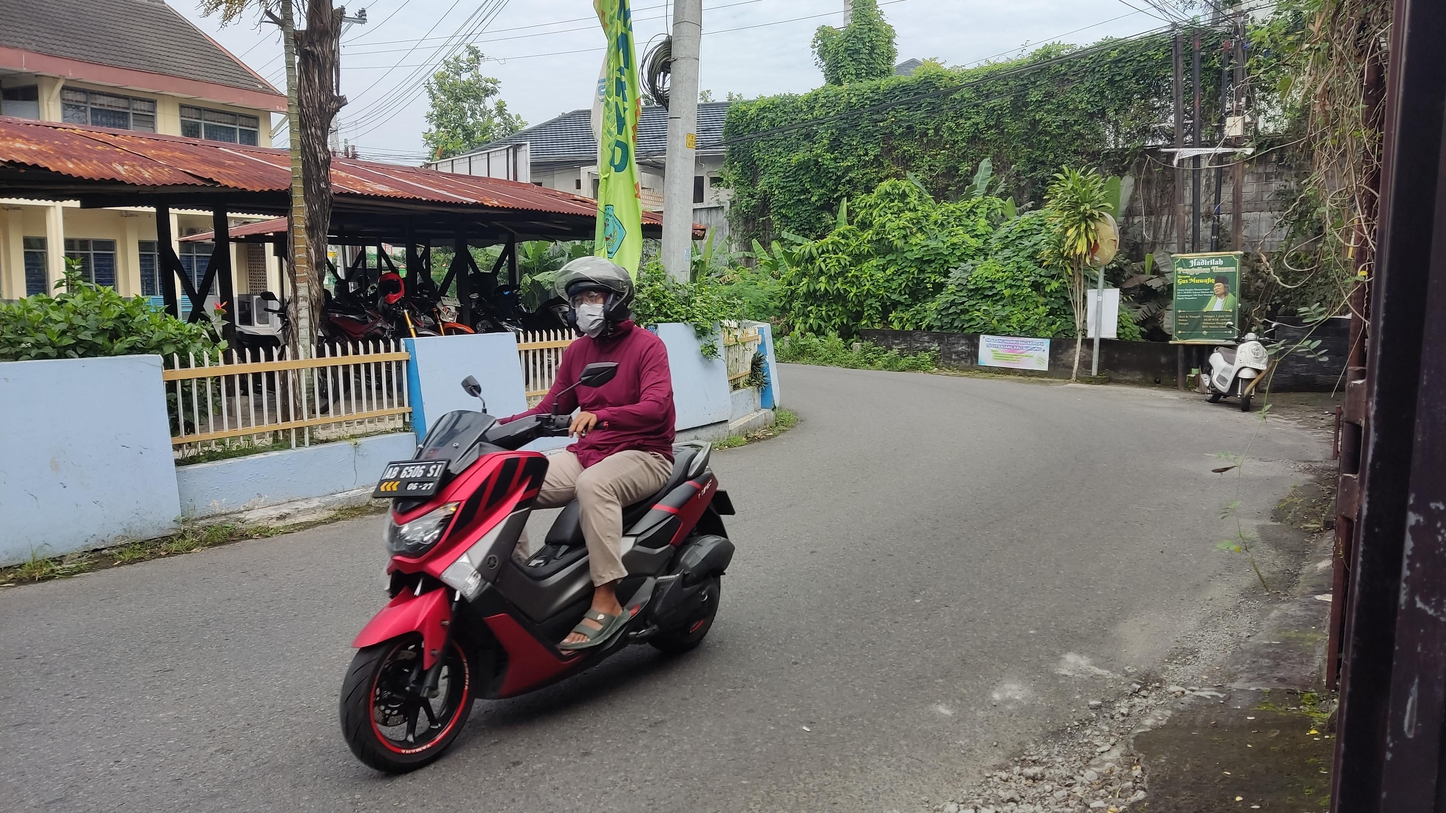helm: (553, 256, 637, 344)
riding: (336, 255, 739, 775)
